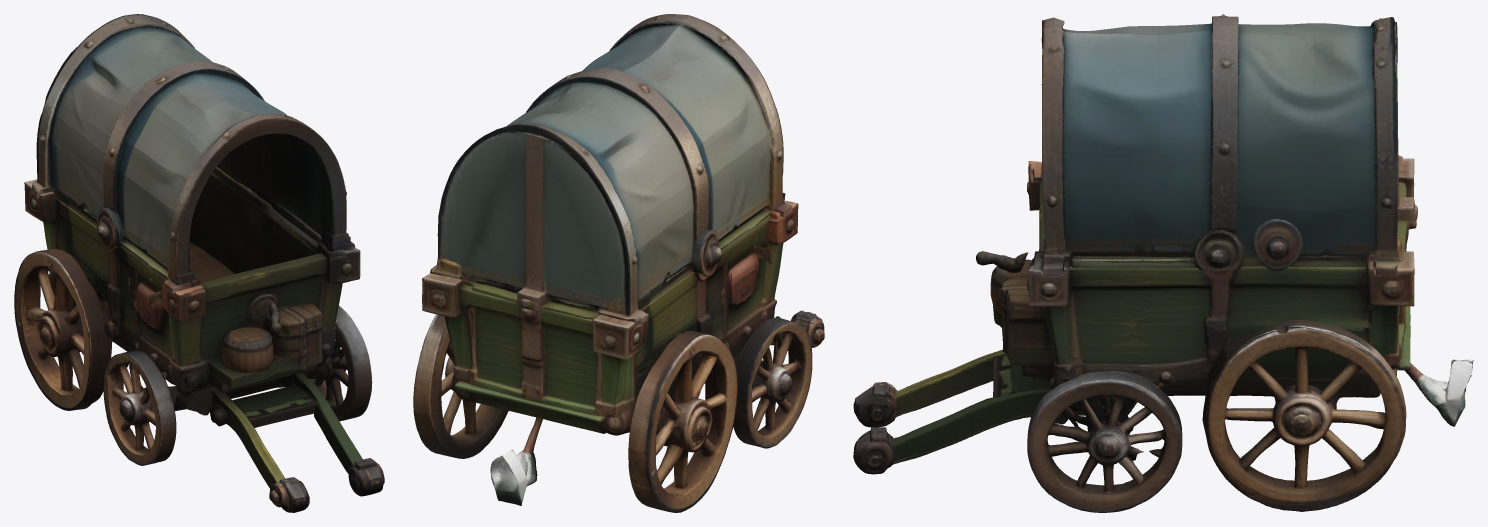
3 renders of one model, left to right at view 1: azimuth 30°, elevation 25°; view 2: azimuth 150°, elevation 25°; view 3: azimuth 270°, elevation 25°, orthographic. The views are drawn at different scales.
Visible parts, largest first — view 1: 1, 0, 3, 2, 5, 6; view 2: 1, 0, 3, 5, 4, 2; view 3: 1, 0, 4, 6, 2.
Part boxes in pixels (left/top/right/bottom): 1: left=32, top=14, right=355, bottom=293; 0: left=24, top=167, right=360, bottom=396; 3: left=14, top=249, right=113, bottom=410; 2: left=168, top=364, right=384, bottom=512; 5: left=103, top=350, right=176, bottom=465; 6: left=308, top=305, right=372, bottom=421; 1: left=430, top=14, right=792, bottom=325; 0: left=422, top=201, right=798, bottom=505; 3: left=628, top=330, right=737, bottom=512; 5: left=733, top=316, right=812, bottom=448; 4: left=413, top=314, right=508, bottom=458; 2: left=704, top=310, right=824, bottom=383; 1: left=1041, top=14, right=1417, bottom=275; 0: left=976, top=158, right=1473, bottom=426; 4: left=1202, top=320, right=1406, bottom=511; 6: left=1027, top=371, right=1182, bottom=512; 2: left=853, top=349, right=1137, bottom=474.
Bounding box in the file's own units: 0.527 × 0.7499 × 0.9906.
Materials: 7 (7 with a texture image).
